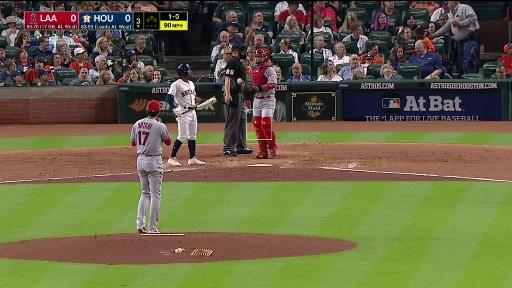pitcher: (130, 100, 173, 233)
